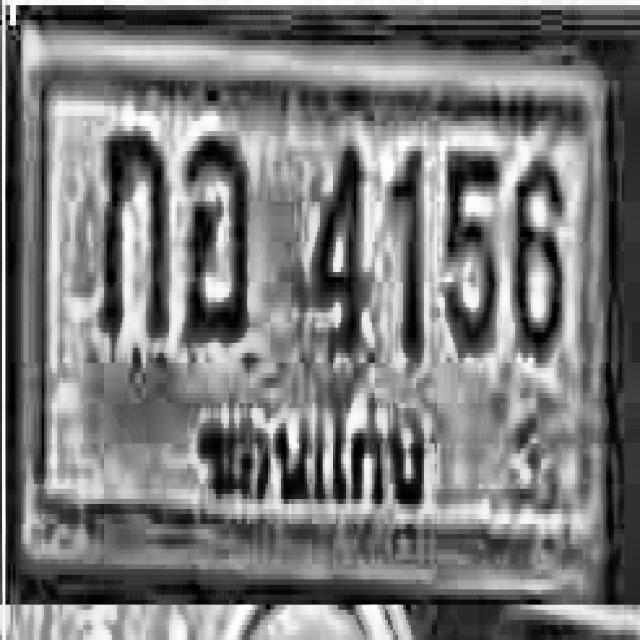license-plate: (18, 14, 626, 610)
